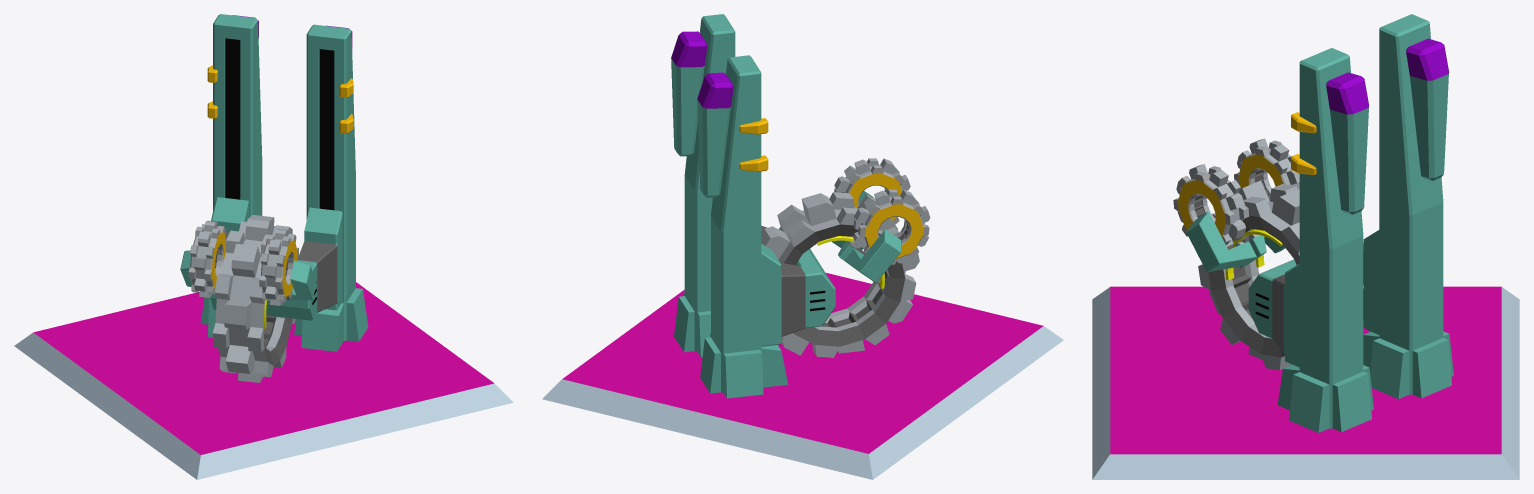
The model's file is 87_Haarvester_KEK5.fbx.
3 renders of one model, left to right at view 1: azimuth 30°, elevation 25°; view 2: azimuth 150°, elevation 25°; view 3: azimuth 270°, elevation 25°, orthographic. The views are drawn at different scales.
Visible parts, largest first — view 1: foundation5, base, big_rockdrill, elevator, pPipe30 (×2), pCube156; view 2: foundation5, base, big_rockdrill, pPipe30 (×2), elevator, pCube157, pCube158, pCube156; view 3: foundation5, base, big_rockdrill, pPipe30 (×2), elevator, pCube157, pCube158, pCube156.
Boxes of the visible parts, left/top/right/bottom form: foundation5: left=14, top=282, right=513, bottom=479; base: left=200, top=14, right=368, bottom=351; big_rockdrill: left=212, top=215, right=295, bottom=382; elevator: left=209, top=197, right=342, bottom=320; pPipe30 (×2): left=188, top=220, right=298, bottom=305; pCube156: left=267, top=260, right=316, bottom=304; foundation5: left=542, top=273, right=1063, bottom=479; base: left=674, top=14, right=788, bottom=398; big_rockdrill: left=761, top=192, right=919, bottom=357; pPipe30 (×2): left=834, top=158, right=930, bottom=264; elevator: left=761, top=225, right=835, bottom=346; pCube157: left=697, top=72, right=733, bottom=197; pCube158: left=671, top=31, right=707, bottom=156; pCube156: left=838, top=229, right=901, bottom=282; foundation5: left=1092, top=286, right=1519, bottom=479; base: left=1277, top=14, right=1453, bottom=432; big_rockdrill: left=1198, top=180, right=1363, bottom=370; pPipe30 (×2): left=1173, top=138, right=1299, bottom=249; elevator: left=1248, top=230, right=1379, bottom=367; pCube157: left=1406, top=38, right=1448, bottom=180; pCube158: left=1326, top=72, right=1368, bottom=214; pCube156: left=1186, top=211, right=1266, bottom=272.
Size of the model in its own units: 2 by 1.93 by 2.
